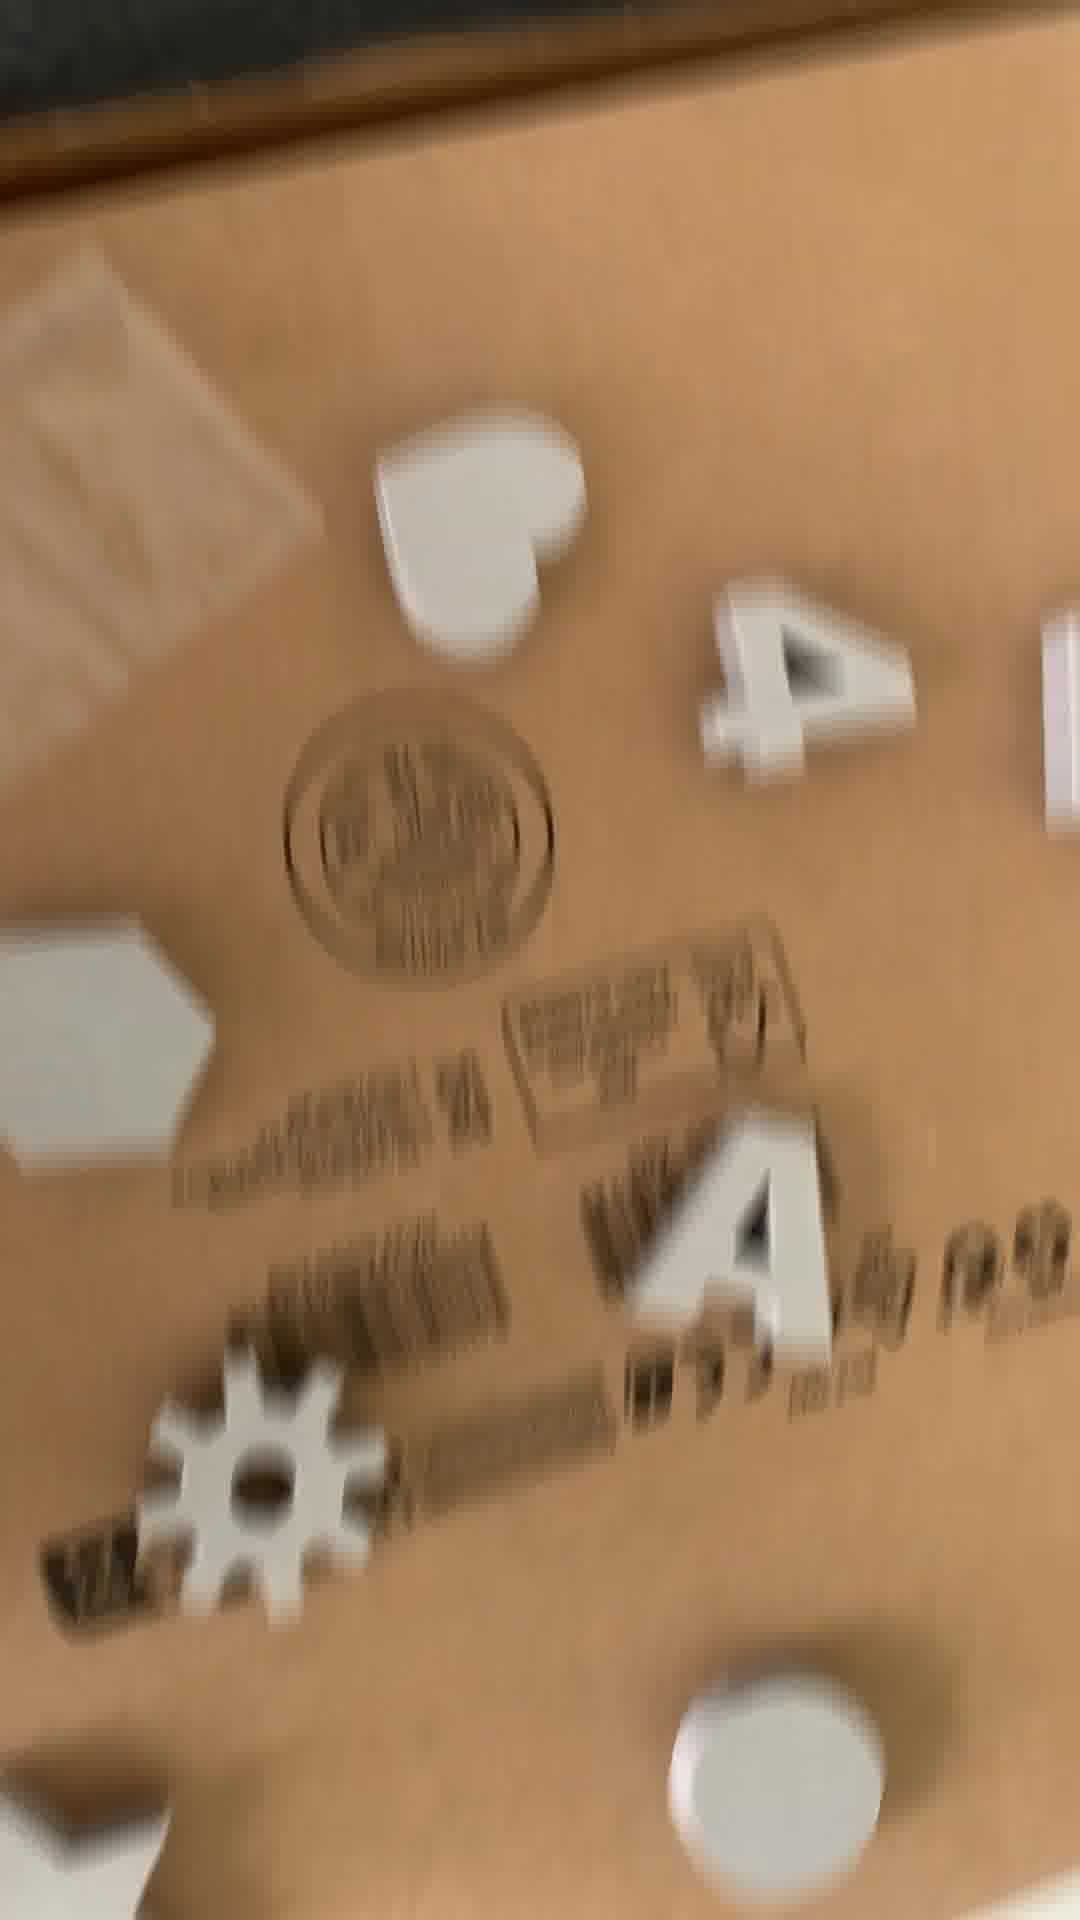Gray A-letter: (628, 1098, 862, 1367)
Gray circle: (661, 1677, 891, 1888)
Gray four: (684, 595, 922, 764)
Gray gear: (137, 1360, 390, 1638)
Gray heart: (365, 418, 600, 663)
Gray hexagon: (1, 926, 228, 1182)
Gray star: (1, 1764, 185, 1920)
